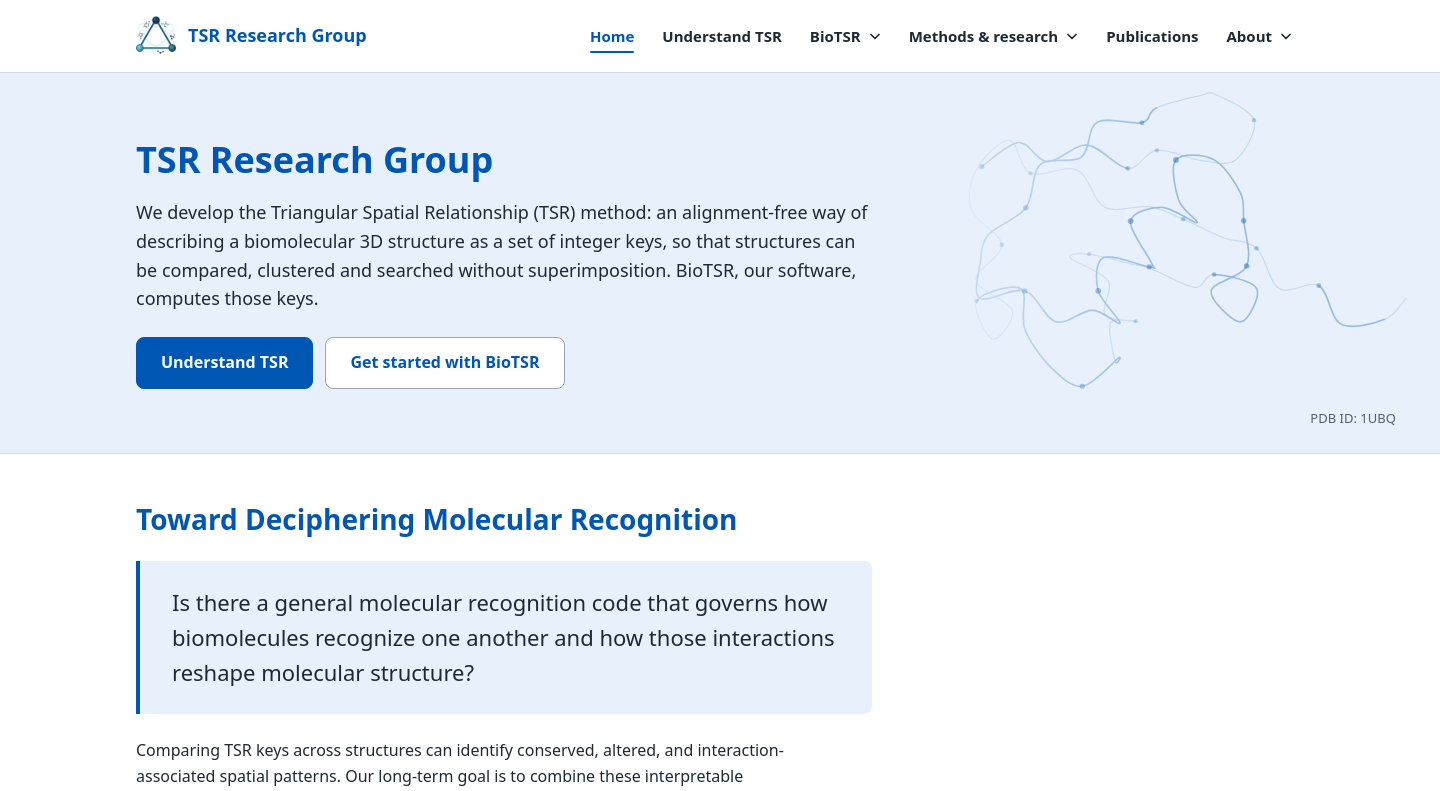
the analysis group of the Methods & research menu › shows the analysis pages in the header menu
The image size is (1440, 791).
Click the button "Methods & research": (993, 36) [897,18,1090,54]
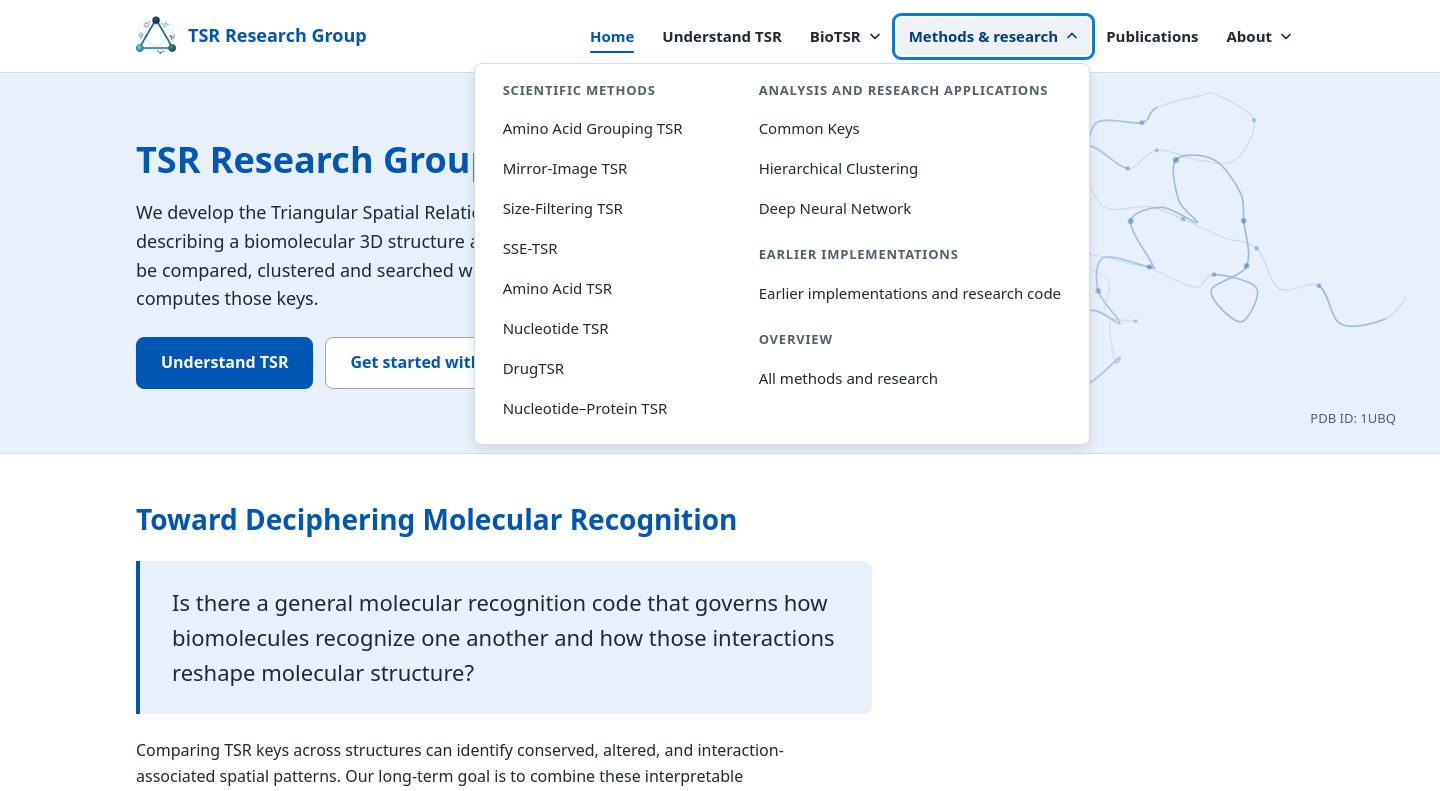
Check: the list named "Analysis and research applications" is shown, box [759,118,918,218]
Check: the link "Common Keys" is shown, box [759,118,860,138]
